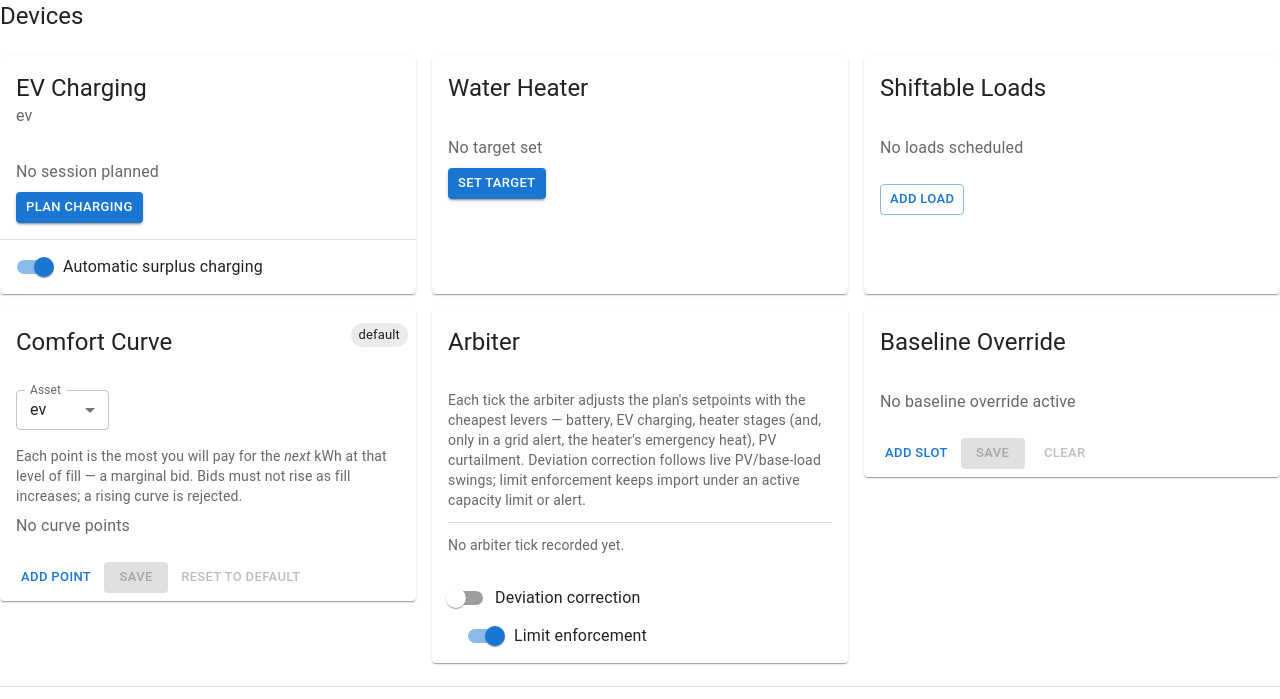
DevicesPage › clearing one half of the estimate re-enables Confirm
Click the button with test id "ev-plan-btn": (79, 207) [16, 192, 143, 223]
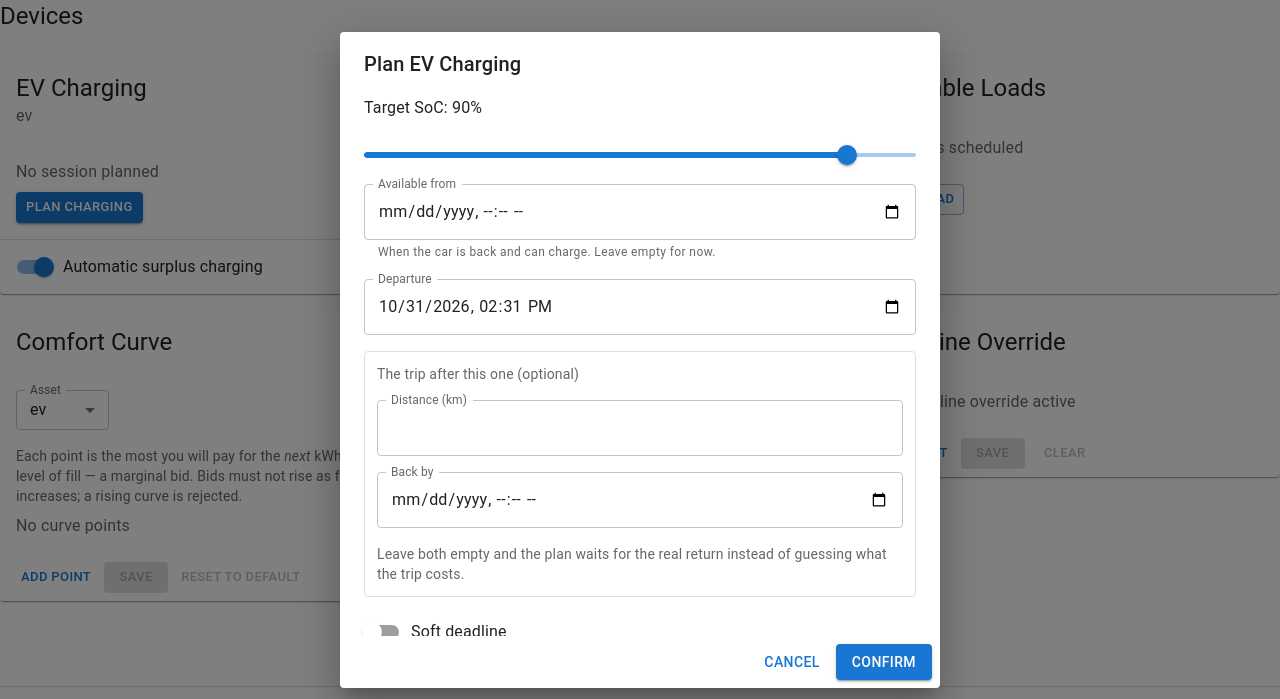
In the number field with test id "ev-trip-distance-input": (640, 428) [377, 400, 903, 456], type "150"
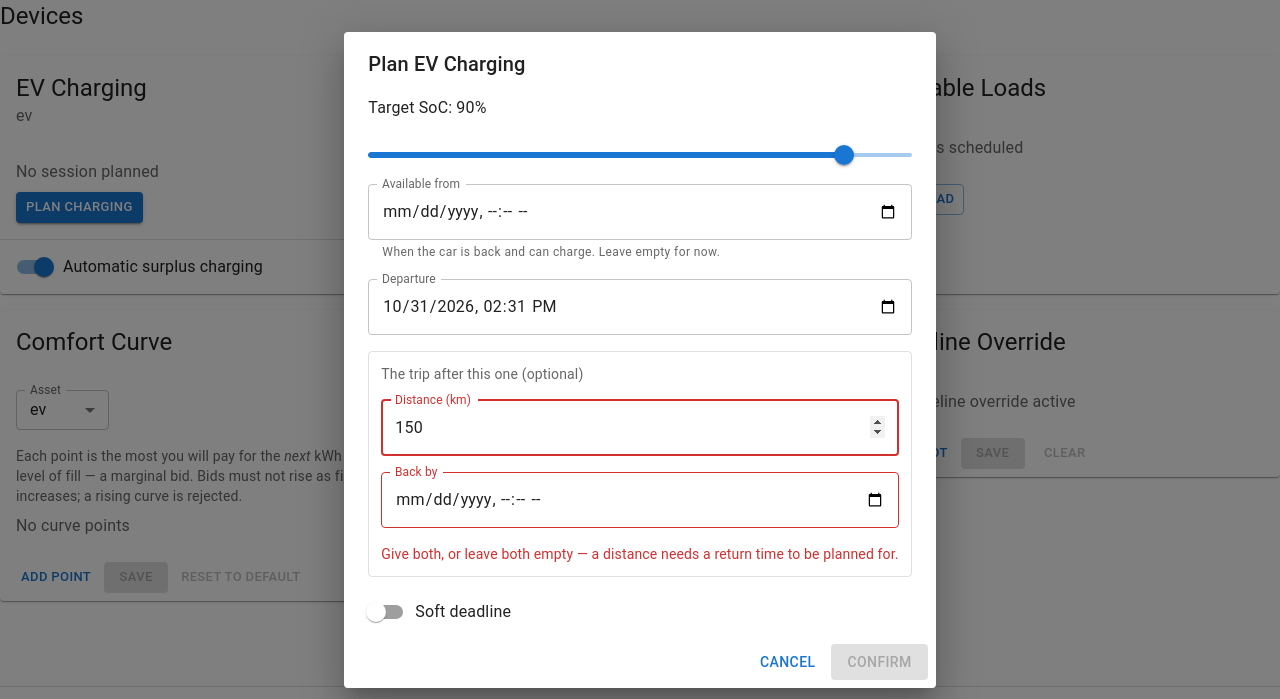
Check: the button with test id "ev-dialog-confirm" is disabled, box [831, 644, 928, 680]
Clear the number field with test id "ev-trip-distance-input": (640, 428) [381, 400, 899, 456]
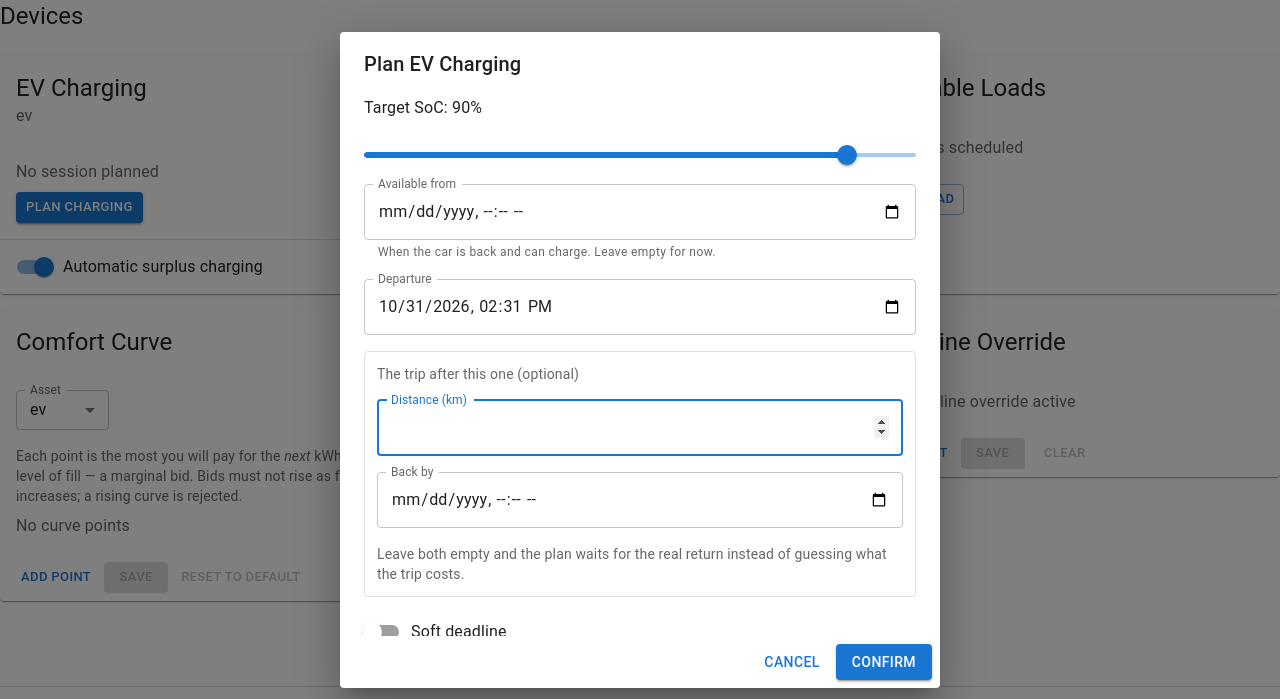
Check: the button with test id "ev-dialog-confirm" is enabled, box [836, 644, 932, 680]
